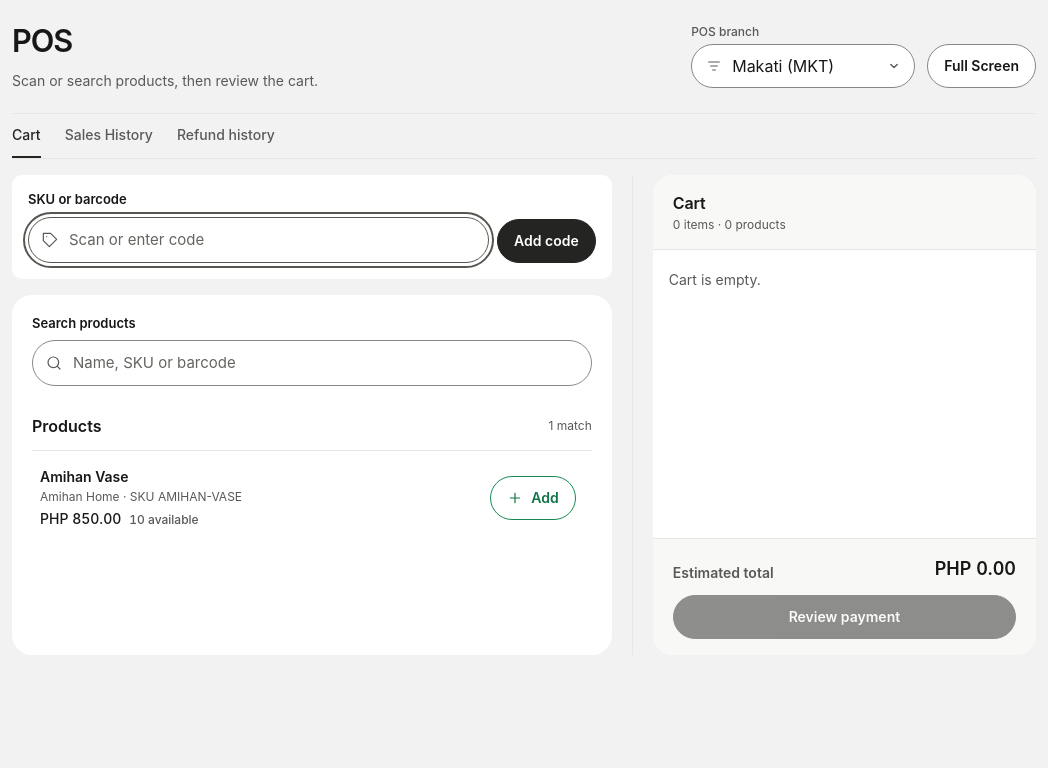
Test case: Branch POS cart workflows › adds on Enter, repeats quantity and restores code-input focus without checkout submission
Type "001Ab" into the field labelled "SKU or barcode".
click(259, 240); type("001Ab")  # box top-left (28, 217), bottom-right (489, 263)
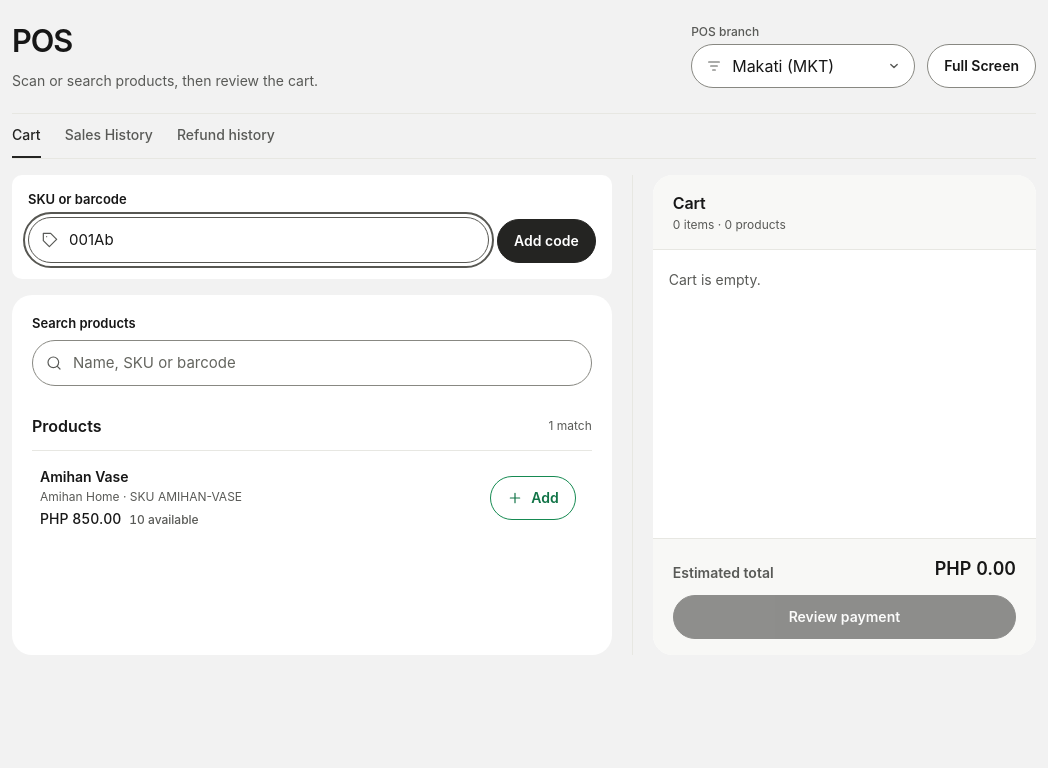
Press Enter in the field labelled "SKU or barcode", box top-left (28, 217), bottom-right (489, 263)
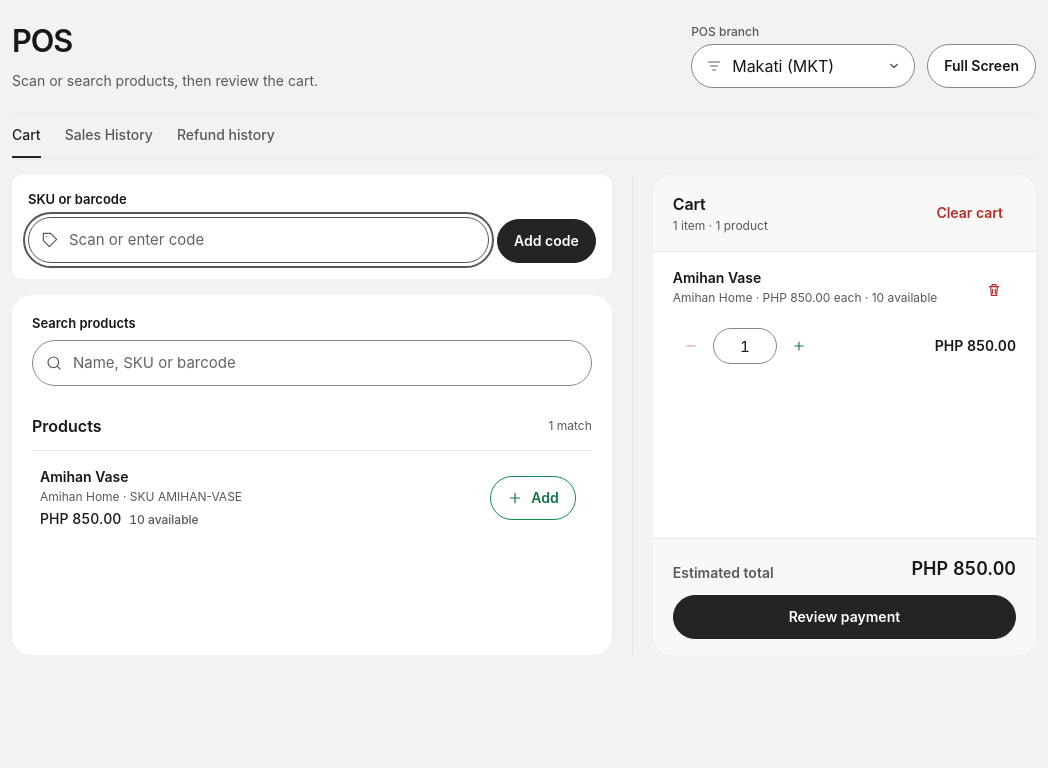
Expected: the field labelled "SKU or barcode" is empty
Type "001Ab" into the field labelled "SKU or barcode".
click(259, 240); type("001Ab")  # box top-left (28, 217), bottom-right (489, 263)
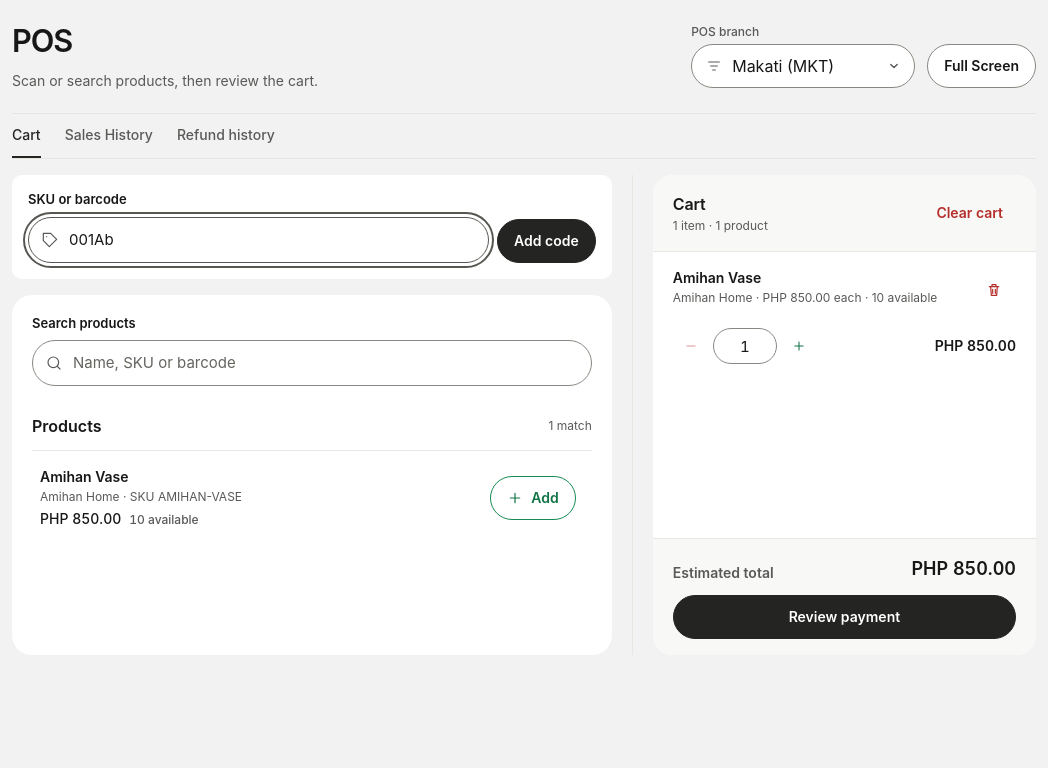
Press Enter in the field labelled "SKU or barcode", box top-left (28, 217), bottom-right (489, 263)
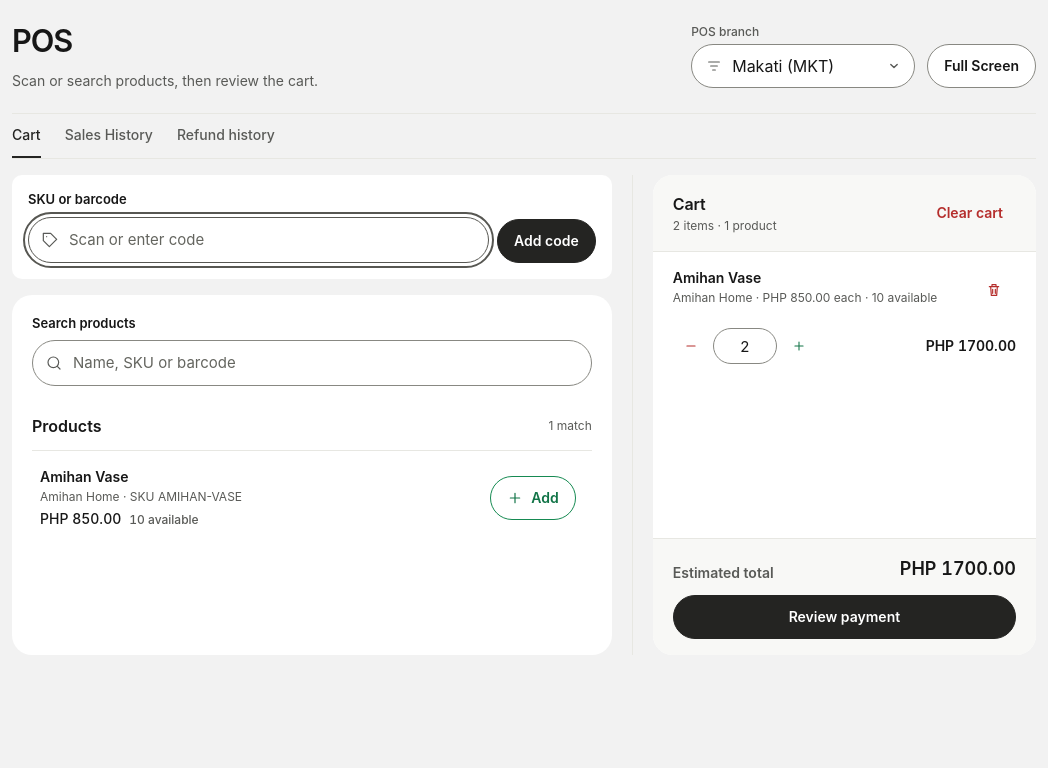
Expected: the text named "Estimated total" shows "1700.00", top-left (941, 558), bottom-right (1016, 579)
